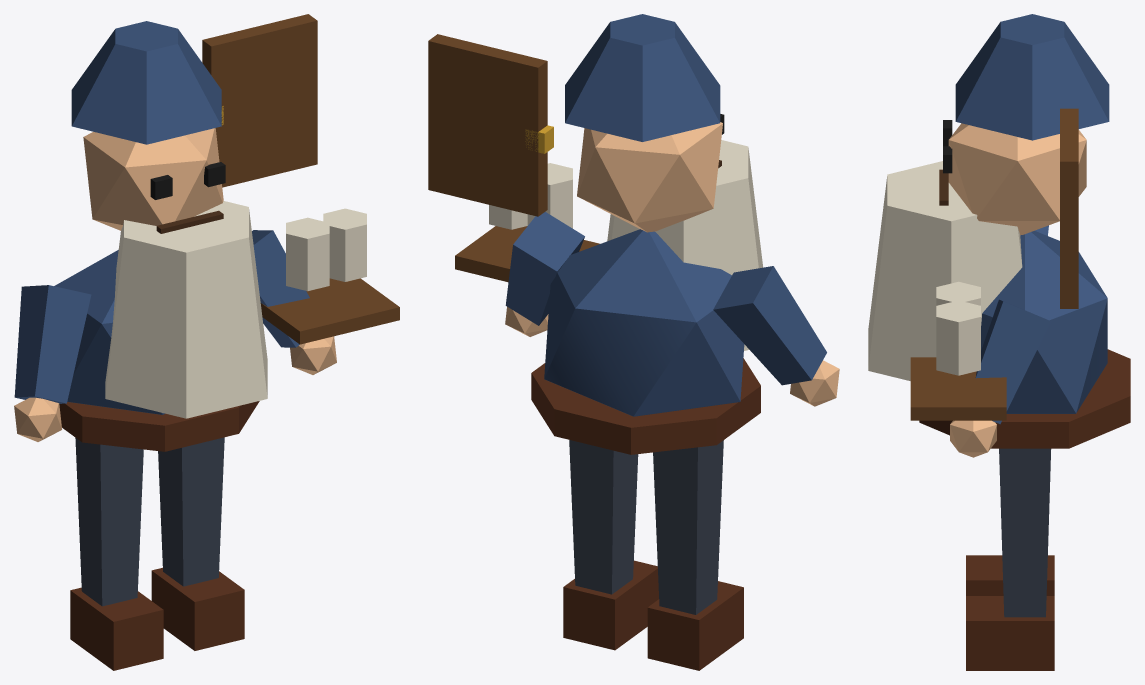
Rendered from npc_innkeeper.glb.
3 renders of one model, left to right at view 1: azimuth 30°, elevation 25°; view 2: azimuth 150°, elevation 25°; view 3: azimuth 270°, elevation 25°, orthographic. The views are drawn at different scales.
Parts seen in each view (by area): view 1: apron.001, leg_0.001, leg_1.001, cap.002, head.002, arm_0.002, belt.001, tray, belly, arm_1.002, mug_0, mug_1 (+1 smaller); view 2: belly, apron.001, leg_0.001, cap.002, leg_1.001, head.002, belt.001, arm_0.002, arm_1.002, tray, mug_0, mug_1; view 3: apron.001, cap.002, leg_1.001, belly, head.002, belt.001, arm_1.002, tray, mug_1, leg_0.001, mug_0.
Part boxes in pixels (bbox=[...]): apron.001: bbox=[105, 14, 317, 418]; leg_0.001: bbox=[70, 437, 163, 670]; leg_1.001: bbox=[151, 437, 244, 650]; cap.002: bbox=[71, 21, 221, 144]; head.002: bbox=[83, 128, 225, 230]; arm_0.002: bbox=[14, 285, 91, 441]; belt.001: bbox=[59, 401, 259, 451]; tray: bbox=[260, 278, 399, 344]; belly: bbox=[54, 250, 164, 414]; arm_1.002: bbox=[252, 230, 336, 374]; mug_0: bbox=[286, 217, 329, 291]; mug_1: bbox=[323, 208, 366, 281]; belly: bbox=[544, 229, 744, 416]; apron.001: bbox=[428, 34, 763, 350]; leg_0.001: bbox=[647, 440, 743, 670]; cap.002: bbox=[565, 14, 720, 141]; leg_1.001: bbox=[563, 440, 658, 650]; head.002: bbox=[577, 114, 724, 232]; belt.001: bbox=[531, 358, 760, 454]; arm_0.002: bbox=[713, 266, 839, 406]; arm_1.002: bbox=[505, 212, 584, 336]; tray: bbox=[455, 226, 599, 282]; mug_0: bbox=[527, 163, 572, 228]; mug_1: bbox=[489, 205, 527, 229]; apron.001: bbox=[868, 108, 1078, 380]; cap.002: bbox=[955, 14, 1109, 140]; leg_1.001: bbox=[966, 448, 1054, 670]; belly: bbox=[981, 230, 1107, 413]; head.002: bbox=[943, 120, 1086, 235]; belt.001: bbox=[919, 349, 1130, 448]; arm_1.002: bbox=[950, 299, 1050, 457]; tray: bbox=[910, 357, 1006, 420]; mug_1: bbox=[936, 300, 980, 375]; leg_0.001: bbox=[966, 555, 1054, 595]; mug_0: bbox=[936, 281, 980, 305].
Bounding box in the file's own units: 1.13 × 1.82 × 0.7116.
